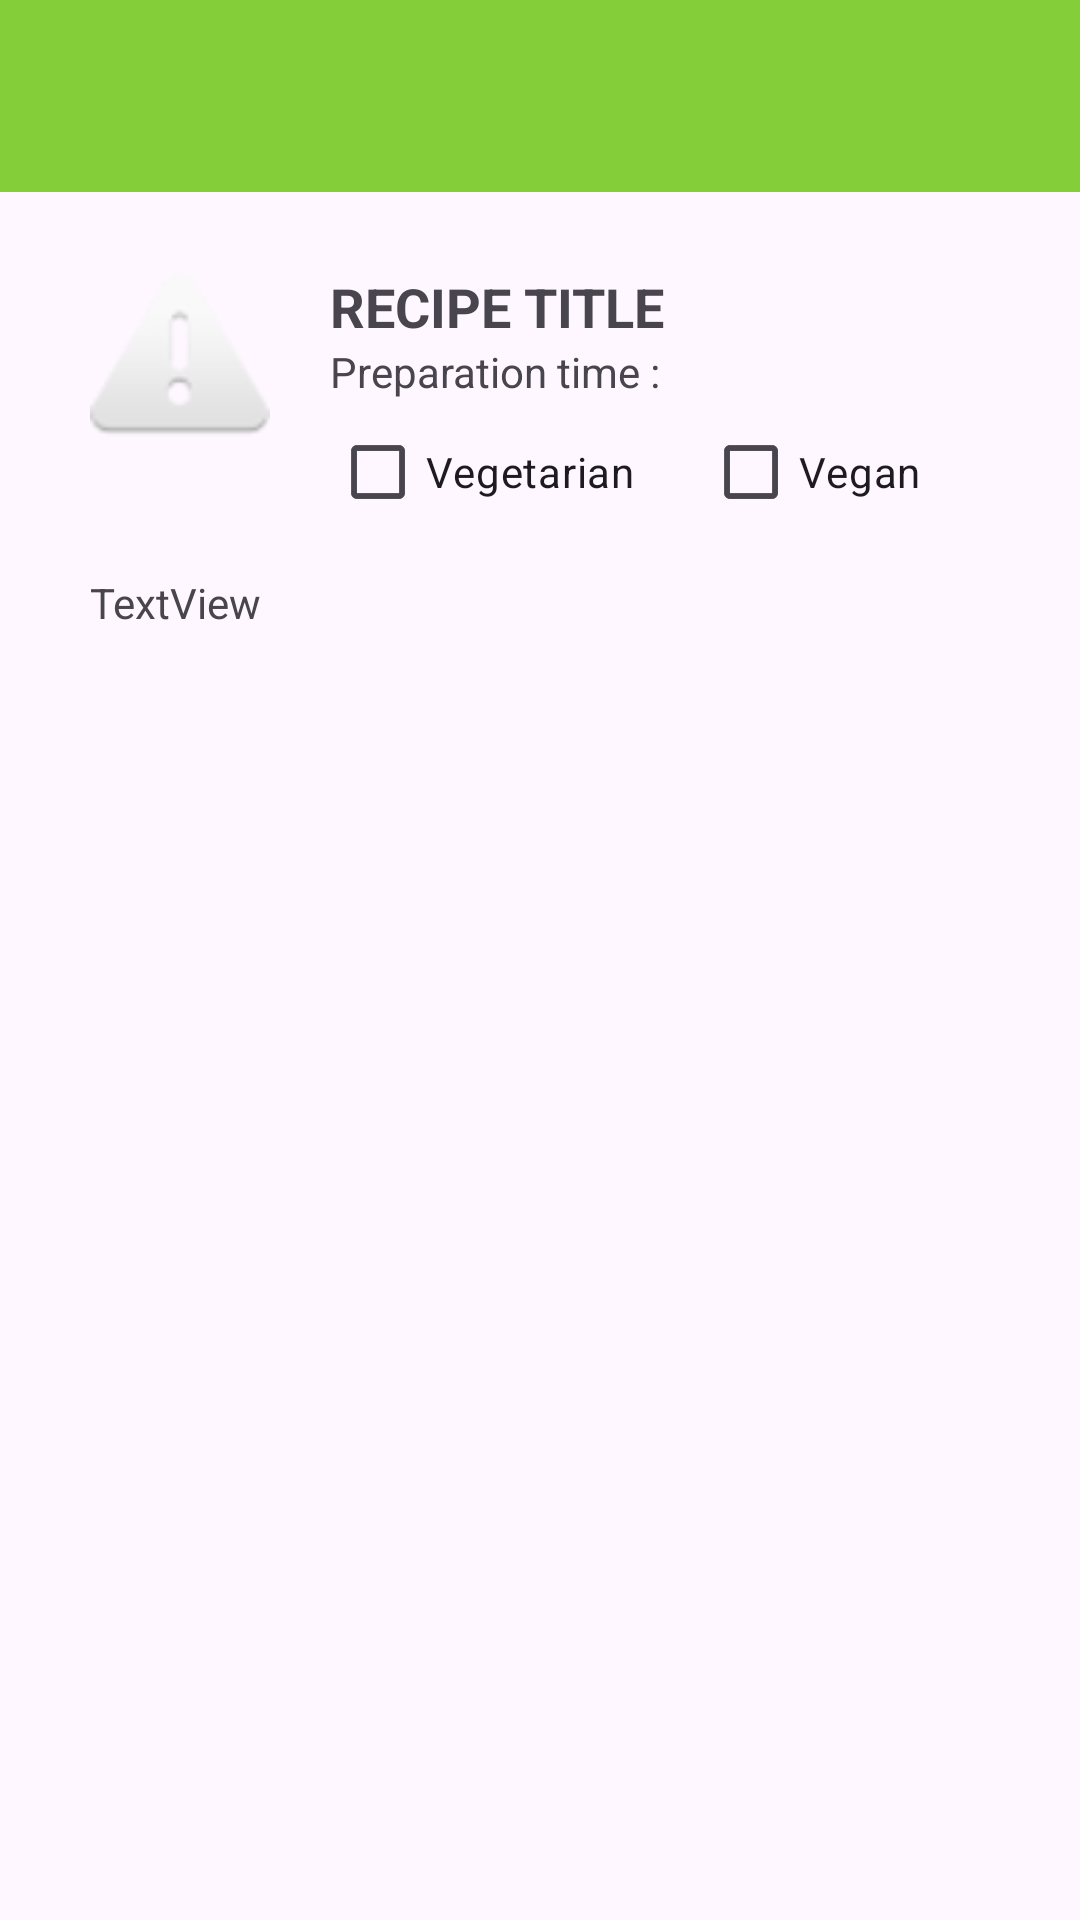

Where icons sit on this 1080px x 1920px app screen, as [left=x1, top=y1, right=x2, bottom=y2]:
alert: [left=90, top=312, right=270, bottom=433]
